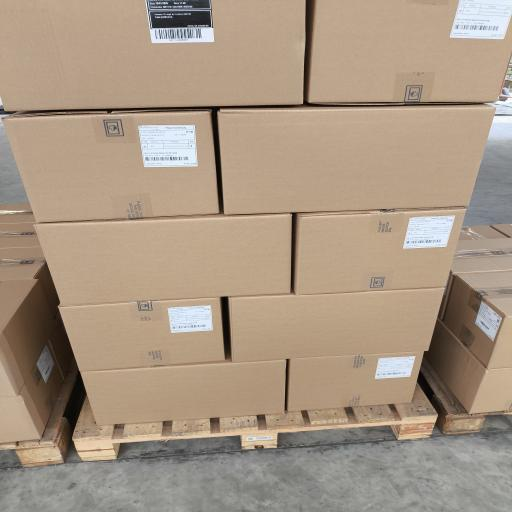pallet: (73, 385, 437, 461), (0, 360, 78, 467), (421, 359, 511, 434)
